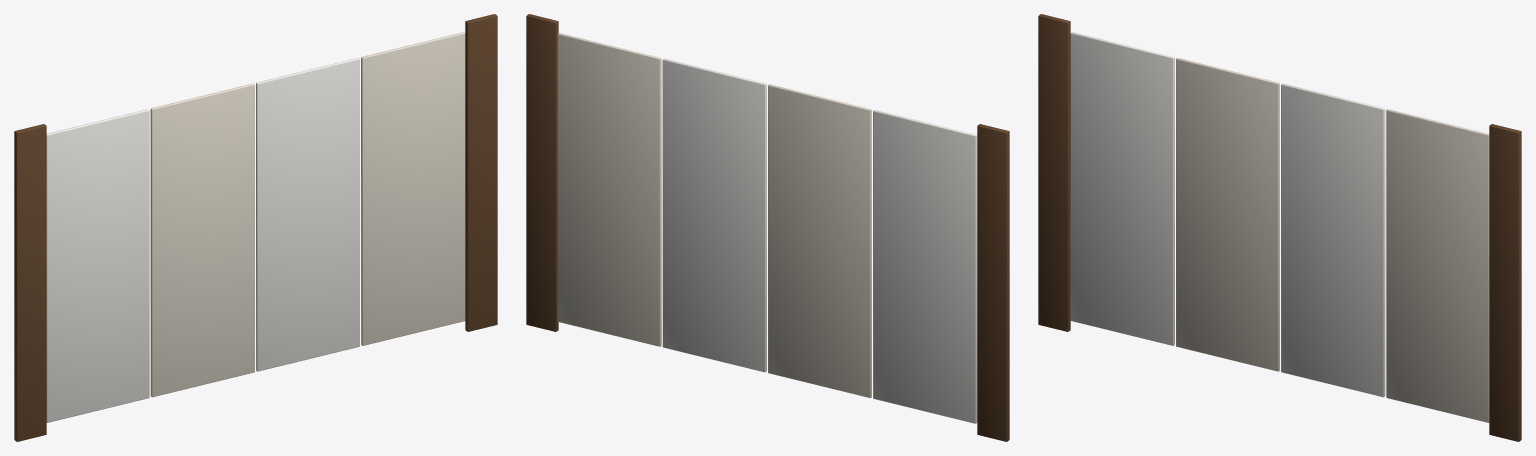
Rendered from bl_wall_panels.glb.
3 views of the same model, side by side, from view 1: azimuth 30°, elevation 25°; view 2: azimuth 150°, elevation 25°; view 3: azimuth 330°, elevation 25° (orthographic).
Visible parts, largest first — view 1: p3, p1, p0, p2, wl, wr; view 2: p0, p3, p2, p1, wl, wr; view 3: p0, p2, p1, p3, wl, wr.
Part boxes in pixels (x1,y1,x2,y2): p3: (361, 32, 465, 345); p1: (150, 83, 254, 397); p0: (46, 109, 149, 422); p2: (256, 58, 359, 371); wl: (14, 124, 46, 441); wr: (465, 14, 497, 331); p0: (873, 110, 977, 423); p3: (557, 33, 661, 346); p2: (662, 58, 766, 372); p1: (768, 84, 871, 397); wl: (977, 124, 1009, 441); wr: (526, 14, 558, 331); p0: (1070, 32, 1174, 345); p2: (1281, 83, 1385, 397); p1: (1176, 58, 1279, 371); p3: (1386, 109, 1489, 422); wl: (1038, 14, 1070, 331); wr: (1489, 124, 1521, 441).
Size of the model in its own units: 4.8 by 2.95 by 0.05.
